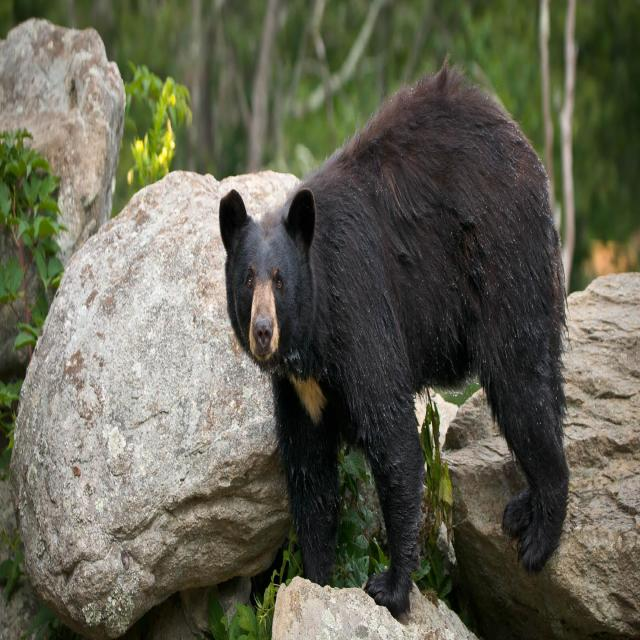Bear: (218, 62, 570, 621)
